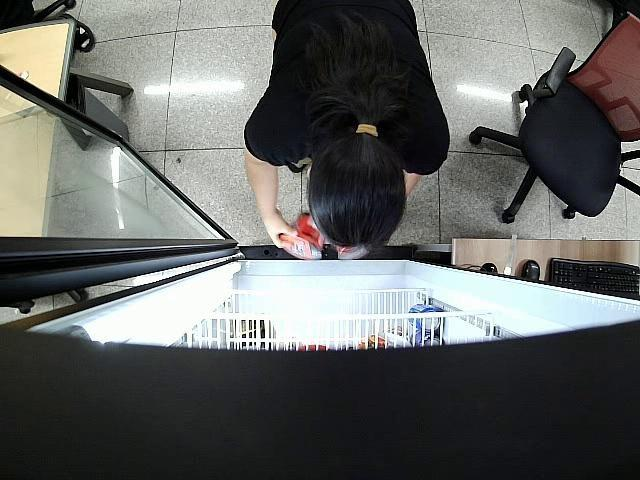01_ShinRamen_L: (279, 212, 324, 260)
